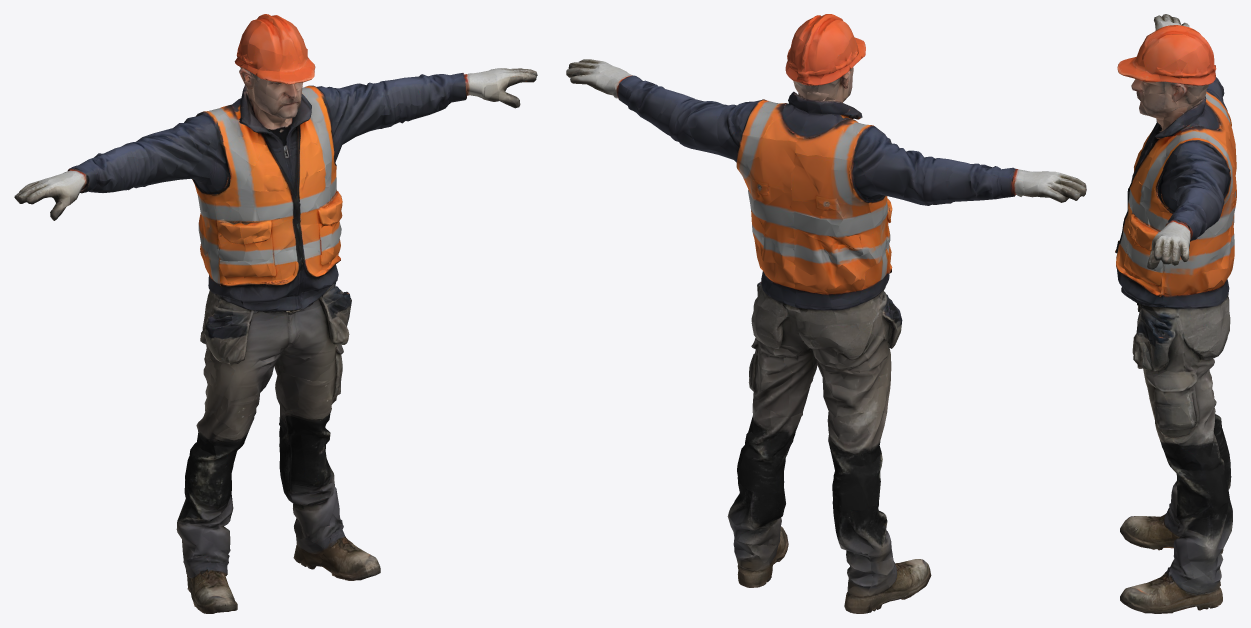
File: villager__construction-worker_e7.glb
3 views of the same model, side by side, from view 1: azimuth 30°, elevation 25°; view 2: azimuth 150°, elevation 25°; view 3: azimuth 270°, elevation 25° (orthographic). The views are drawn at different scales.
Size of the model in its own units: 1.82 by 1.9 by 0.3813.
1 material, 1 textured.
